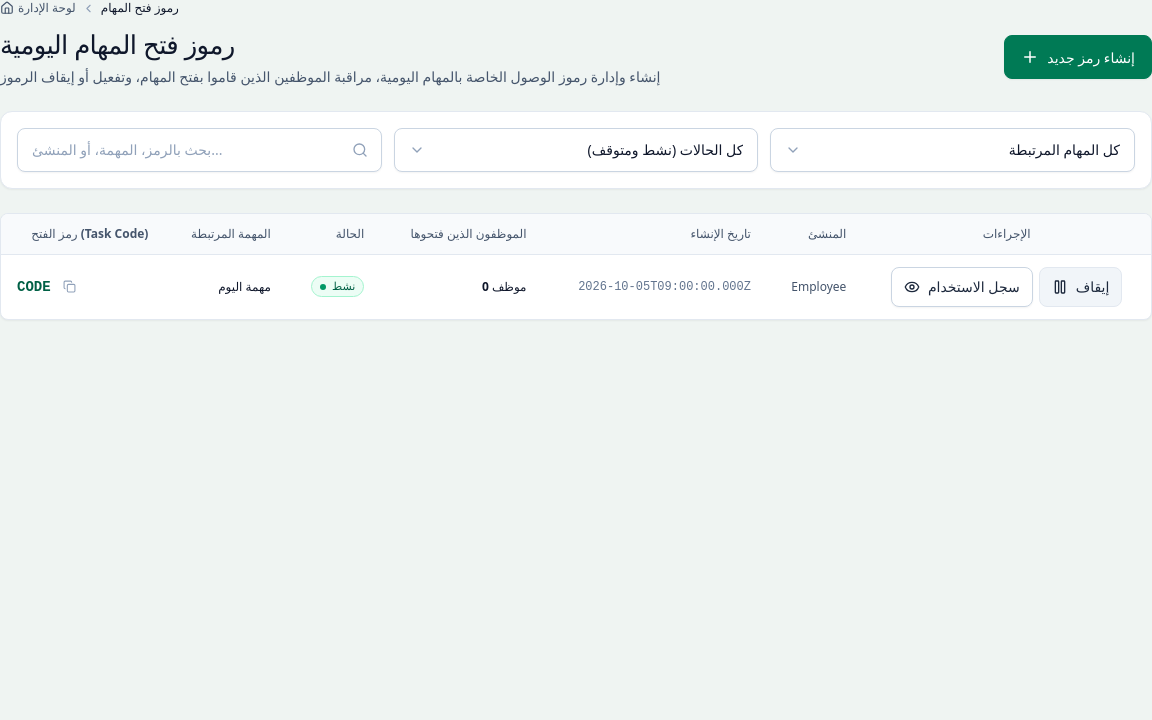
Test: renders attributed successful counts from real limit-ten pages
Expected: the link "CODE" is shown, [17,277,51,297]
Expected: the link "مهمة اليوم" is shown, [218,278,271,295]
Click the button "إيقاف". click: (1081, 287)
box: [1039,267,1122,307]
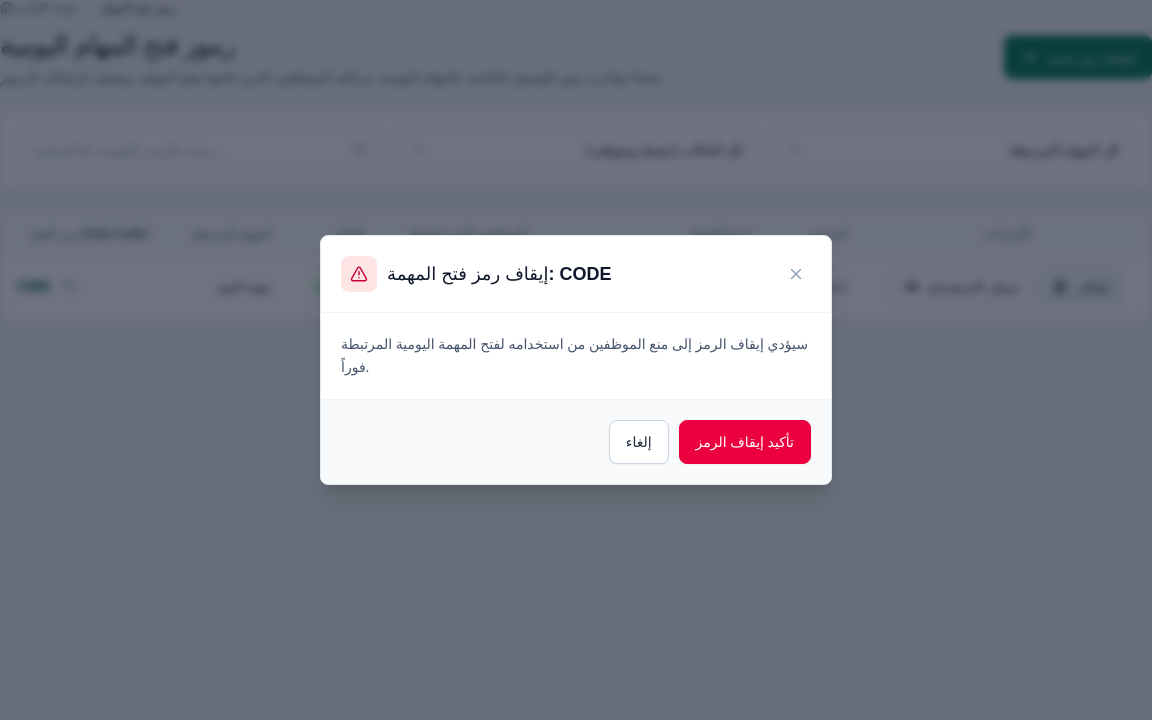
Expected: the dialog is shown
